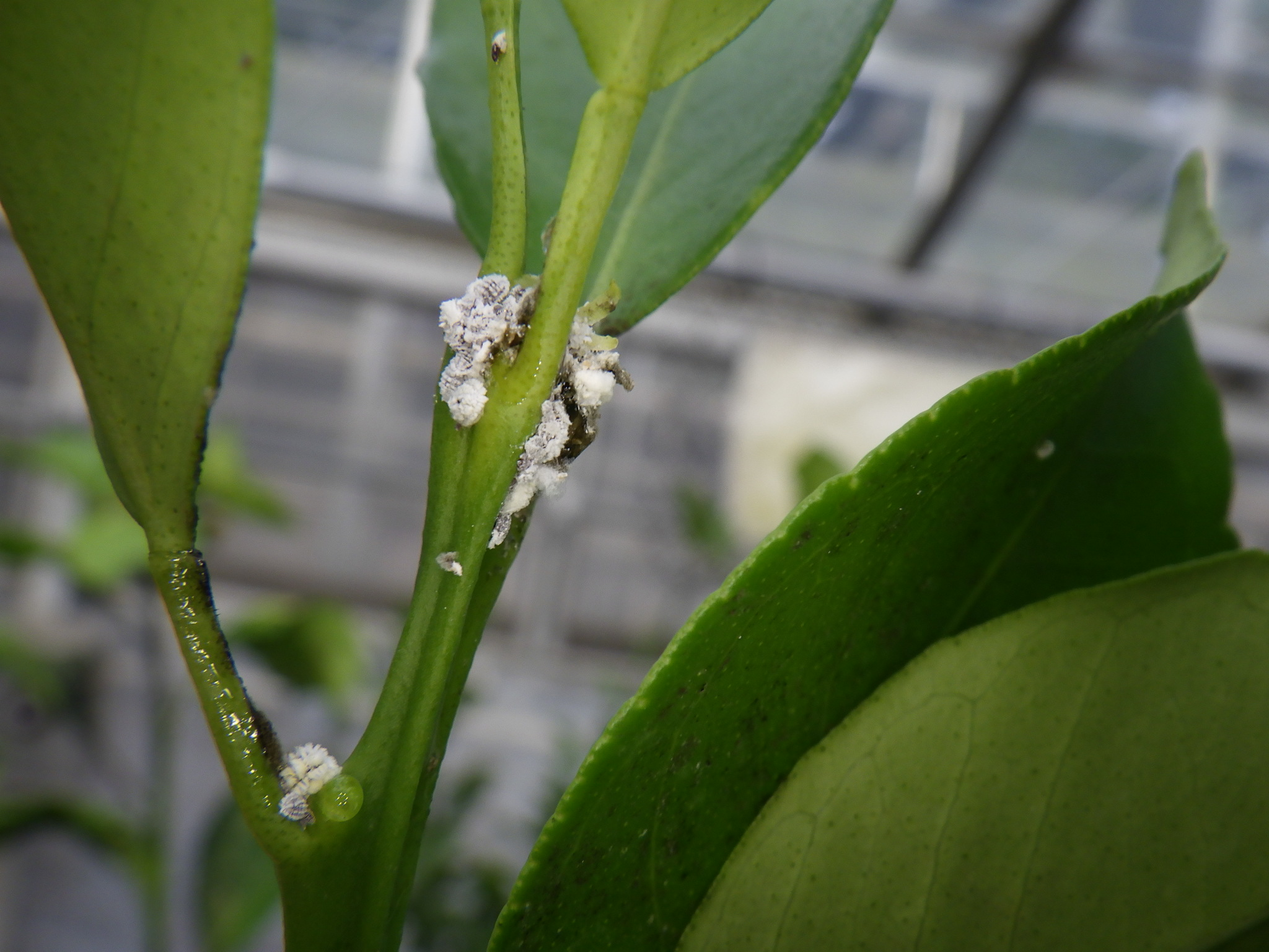Scale_Insect: (439, 276, 536, 427), (488, 395, 571, 548), (562, 311, 631, 409), (279, 744, 340, 821)
